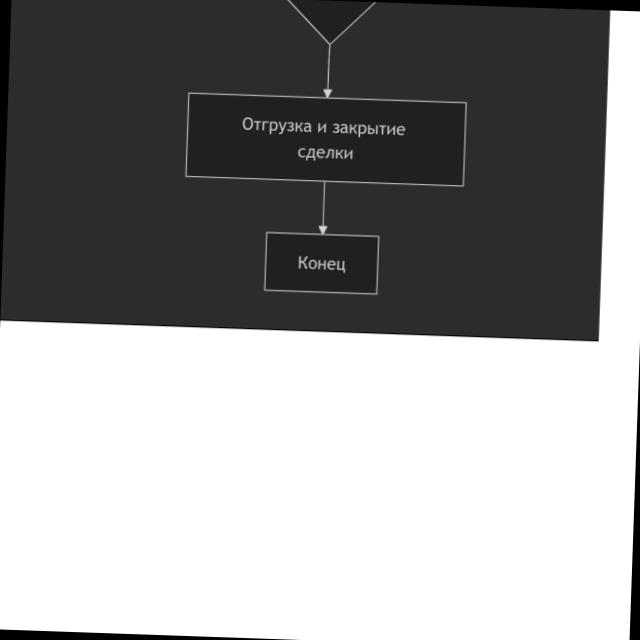arrow: (319, 182, 327, 234), (324, 45, 332, 97)
rectangle: (185, 92, 467, 188), (265, 233, 379, 294)
